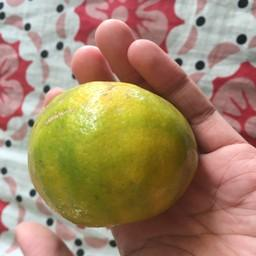Good_orange: (25, 86, 202, 228)
